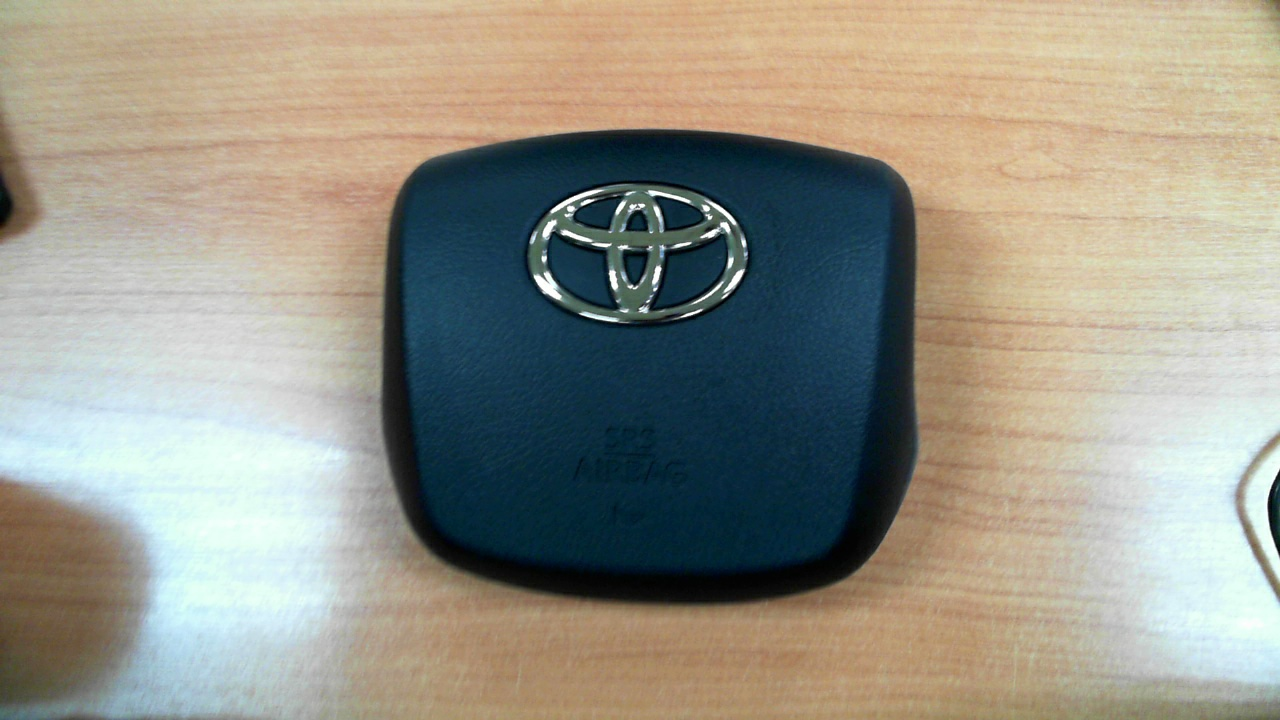Airbag: (344, 93, 954, 626)
